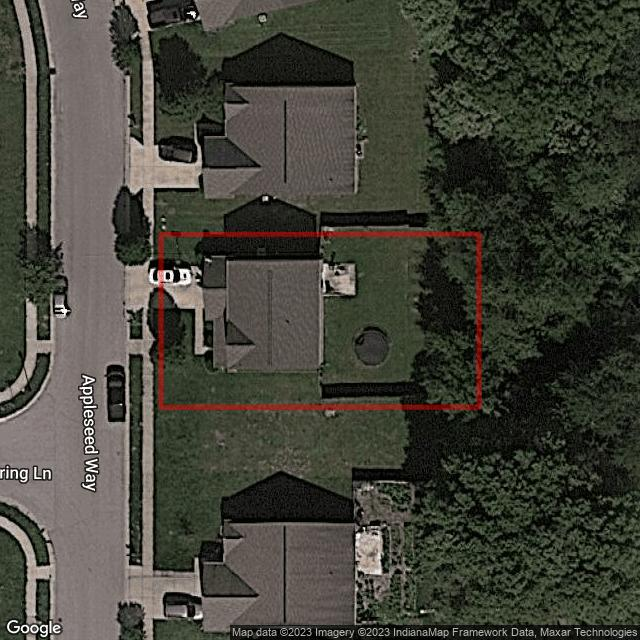Driveway: (163, 261, 203, 309)
Extra Driveway: (124, 261, 160, 308)
Extra Lawn: (128, 354, 143, 411), (153, 308, 159, 409), (128, 308, 143, 339), (153, 233, 159, 261)
Extra Sidewalk: (142, 233, 153, 264)
House: (204, 261, 321, 371)
Other: (355, 326, 388, 365), (322, 264, 356, 296)
Sidewalk: (129, 307, 154, 411), (194, 309, 213, 356)
